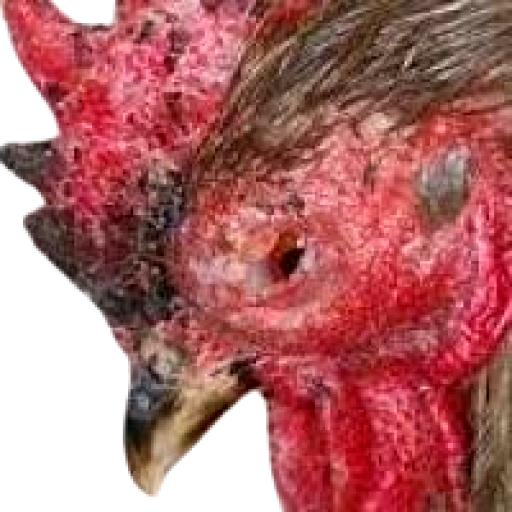disease: (0, 0, 215, 323), (178, 136, 372, 345), (110, 272, 248, 452)
